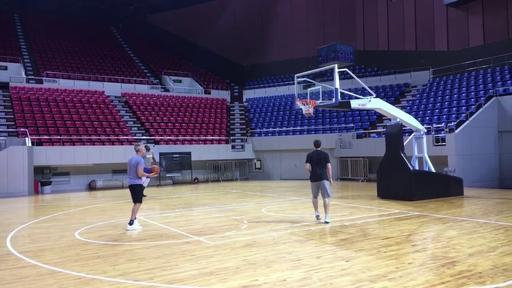ball: (152, 164, 159, 174)
human: (126, 143, 158, 230), (305, 139, 333, 224), (144, 144, 158, 197)
rim: (296, 98, 318, 116)
